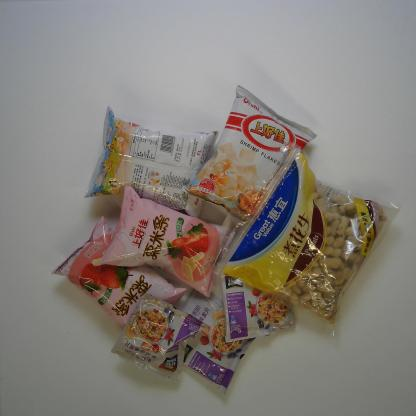Dried Food: (209, 141, 404, 343)
Instant Drink: (108, 290, 211, 386), (176, 282, 255, 398), (220, 269, 296, 345)
Puffed Food: (180, 83, 320, 227), (89, 181, 229, 305), (48, 212, 190, 329), (81, 104, 220, 220)
